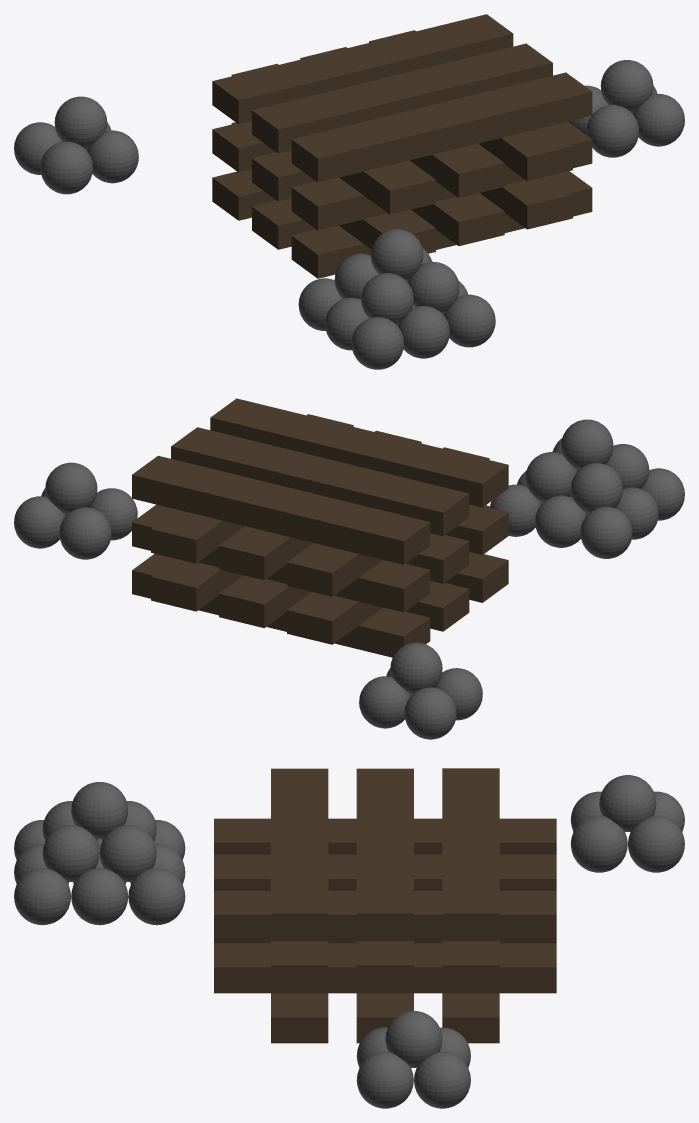
File: constructionsite.fbx
3 renders of one model, top to bottom at view 1: azimuth 30°, elevation 25°; view 2: azimuth 150°, elevation 25°; view 3: azimuth 270°, elevation 25°, orthographic. The views are drawn at different scales.
Visible parts, largest first — view 1: Cube_014, Cube_012, Cube_013, Cube_010, Cube_002, Cube_007, Cube_008, Cube_006, Cube_001, Cube_005, Sphere_009, Sphere_015 (+19 smaller); view 2: Cube_012, Cube_014, Cube_013, Cube_009, Cube_003, Cube_007, Cube_008, Cube_006, Cube_004, Cube_001, Cube_005, Sphere_001 (+20 smaller); view 3: Cube_014, Cube_013, Cube_012, Cube_005, Cube_006, Cube_008, Cube_007, Cube_002, Cube_011, Cube_010, Cube_009, Cube_003 (+24 smaller).
Part boxes in pixels (x1,y1,x2,y2): Cube_014: [291, 72, 592, 182]; Cube_012: [212, 14, 513, 124]; Cube_013: [252, 43, 552, 153]; Cube_010: [291, 121, 592, 230]; Cube_002: [291, 171, 592, 278]; Cube_007: [231, 63, 435, 214]; Cube_008: [300, 47, 504, 197]; Cube_006: [369, 30, 572, 181]; Cube_001: [411, 193, 504, 245]; Cube_005: [480, 176, 572, 229]; Sphere_009: [40, 141, 92, 194]; Sphere_015: [351, 317, 404, 369]; Cube_012: [132, 455, 430, 564]; Cube_014: [210, 398, 508, 507]; Cube_013: [171, 427, 469, 536]; Cube_009: [132, 504, 430, 612]; Cube_003: [132, 553, 430, 657]; Cube_007: [287, 447, 489, 596]; Cube_008: [219, 430, 421, 580]; Cube_006: [151, 414, 353, 563]; Cube_004: [287, 505, 489, 644]; Cube_001: [219, 575, 311, 628]; Cube_005: [151, 559, 243, 611]; Sphere_001: [59, 507, 111, 559]; Cube_014: [271, 768, 328, 939]; Cube_013: [356, 768, 413, 939]; Cube_012: [442, 768, 499, 938]; Cube_005: [214, 943, 556, 993]; Cube_006: [214, 891, 556, 940]; Cube_008: [214, 854, 556, 890]; Cube_007: [214, 818, 556, 854]; Cube_002: [271, 993, 328, 1043]; Cube_011: [356, 941, 413, 990]; Cube_010: [271, 941, 328, 990]; Cube_009: [442, 941, 499, 990]; Cube_003: [442, 993, 499, 1043].
Bounding box in the file's own units: 5.89 × 1.26 × 5.87.
